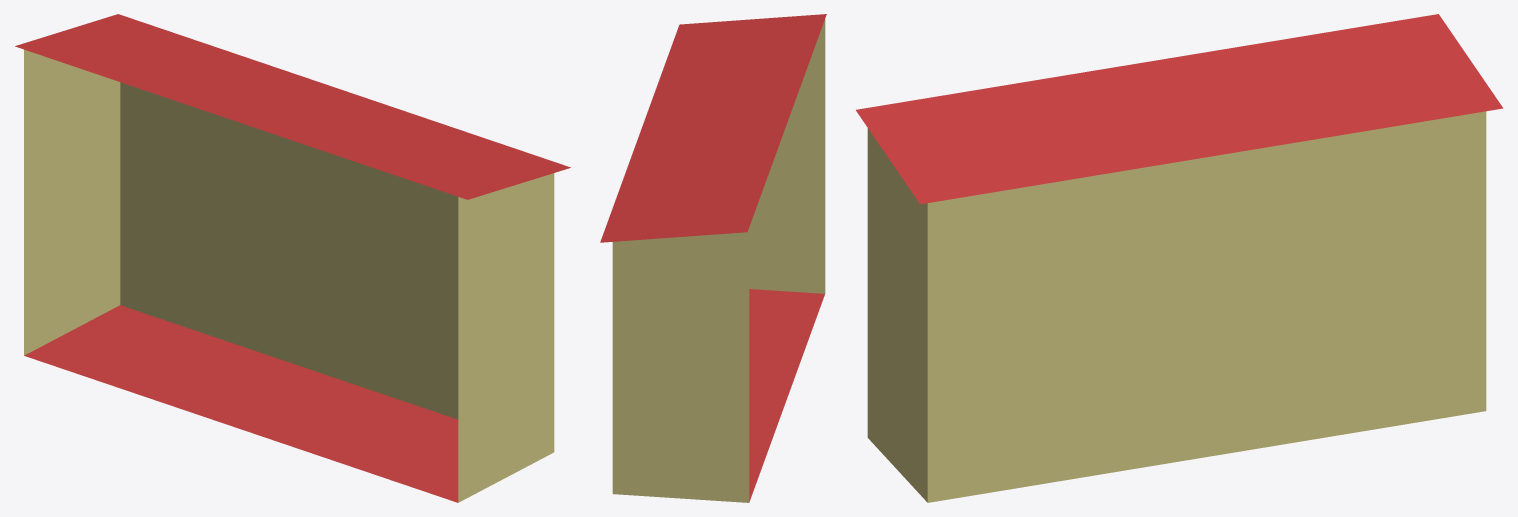
3 renders of one model, left to right at view 1: azimuth 30°, elevation 25°; view 2: azimuth 150°, elevation 25°; view 3: azimuth 270°, elevation 25°, orthographic. The views are drawn at different scales.
Size of the model in its own units: 7.49 by 12.33 by 6.92.
